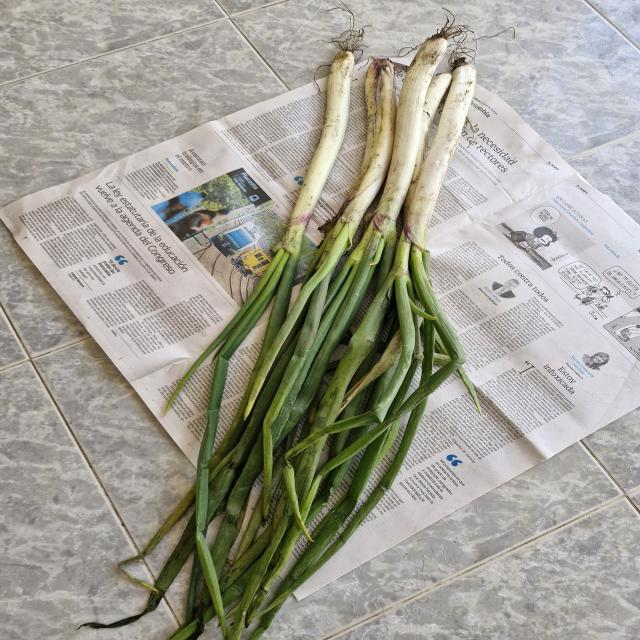green_onion: (297, 34, 453, 339), (387, 49, 474, 342), (256, 44, 354, 299)
